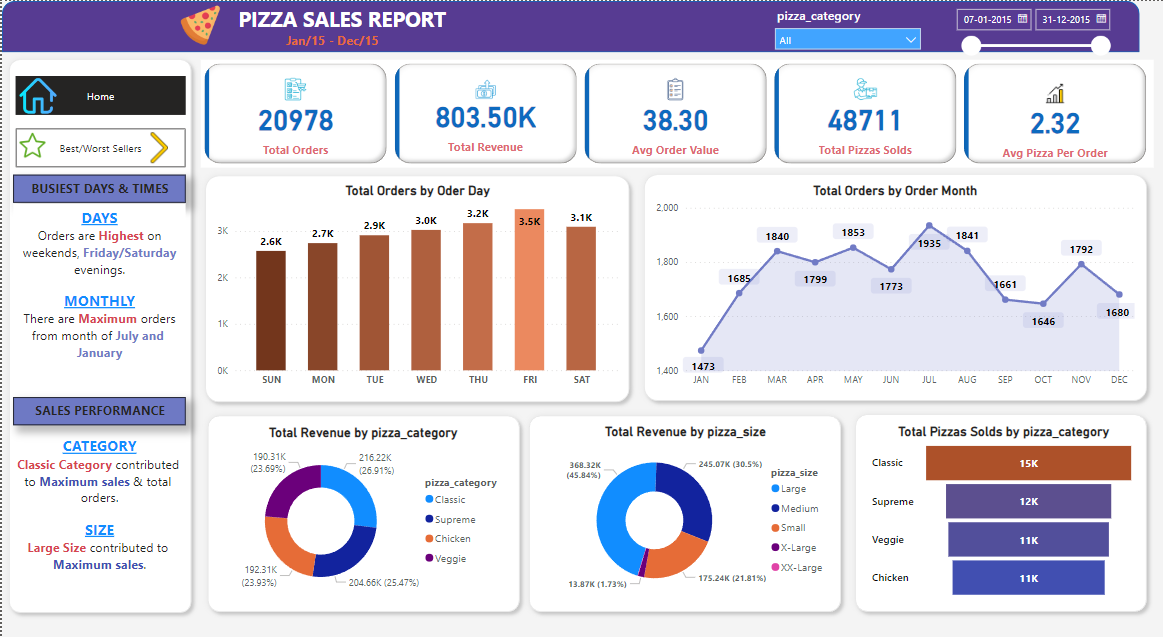

Layout of this report page (visuals, bound fields, positions):
{"tool":"powerbi","page":{"name":"Home","canvas":[1500,820],"ordinal":0},"visuals":[{"type":"cardVisual","fields":{"Data":["pizza_sales.Total Orders","pizza_sales.Total Revenue","pizza_sales.Avg Order Value","pizza_sales.Total Pizzas Solds","pizza_sales.Avg Pizza Per Order"]},"box":[256.2,76.6,1229.3,139.2],"z":0},{"type":"shape","box":[0,0,1467.7,66.1],"z":1000},{"type":"textbox","box":[272.6,0,332.3,58.1],"z":2000},{"type":"textbox","box":[361.3,33.9,156.5,32.3],"z":3000},{"type":"image","box":[203.2,0,104.8,62.9],"z":4000},{"type":"shape","box":[253.4,215.8,565.2,310.5],"z":5000},{"type":"columnChart","fields":{"Category":["pizza_sales.Oder Day"],"Y":["pizza_sales.Total Orders"]},"box":[272.9,233.9,527.6,272.9],"z":6000},{"type":"shape","box":[818.6,214.4,666.9,310.5],"z":7000},{"type":"areaChart","fields":{"Y":["pizza_sales.Total Orders"],"Category":["pizza_sales.Order Month"]},"box":[839.5,233.9,627.9,272.9],"z":8000},{"type":"shape","box":[256.2,526.2,420.4,271.5],"z":9000},{"type":"shape","box":[1091.5,524.9,394,272.9],"z":10000},{"type":"shape","box":[671,526.2,420.4,271.5],"z":11000},{"type":"donutChart","fields":{"Y":["pizza_sales.Total Revenue"],"Category":["pizza_sales.pizza_category"]},"box":[272.9,547.1,387,229.7],"z":12000},{"type":"donutChart","fields":{"Y":["pizza_sales.Total Revenue"],"Category":["pizza_sales.pizza_size"]},"box":[687.7,545.7,389.8,231.1],"z":13000},{"type":"funnel","fields":{"Category":["pizza_sales.pizza_category"],"Y":["pizza_sales.Total Pizzas Solds"]},"box":[1117.9,545.7,349.4,231.1],"z":14000},{"type":"shape","box":[0,65.4,253.4,732.3],"z":15000},{"type":"textbox","box":[15.3,224.1,222.8,36.2],"z":16000},{"type":"textbox","box":[15.3,261.7,222.8,220],"z":17000},{"type":"textbox","box":[15.3,556.9,222.8,220],"z":18000},{"type":"textbox","box":[15.3,510.9,222.8,36.2],"z":19000},{"type":"slicer","fields":{"Values":["pizza_sales.pizza_category"]},"box":[987.1,1.6,208.1,66.1],"z":20000},{"type":"slicer","fields":{"Values":["pizza_sales.order_date"]},"box":[1219.4,0,219.4,75.8],"z":21000},{"type":"pageNavigator","box":[17.7,96.8,219.4,50],"z":22000},{"type":"pageNavigator","box":[17.7,164.5,219.4,50],"z":23000},{"type":"image","box":[169.4,164.5,67.7,50],"z":24000},{"type":"image","box":[17.7,93.5,58.1,58.1],"z":24001},{"type":"image","box":[17.7,158.1,43.5,56.5],"z":24002}]}

Visuals, with their boxes in screenshot pixels (x1, y1, x2, y2), scaled from the page's 1500x820 canvas onto the 1163x637 screenshot:
cardVisual - pizza_sales.Total Orders x pizza_sales.Total Revenue: <region>199, 60, 1152, 168</region>
shape: <region>0, 0, 1138, 51</region>
textbox: <region>211, 0, 469, 45</region>
textbox: <region>280, 26, 401, 51</region>
image: <region>158, 0, 239, 49</region>
shape: <region>196, 168, 635, 409</region>
columnChart - pizza_sales.Oder Day x pizza_sales.Total Orders: <region>212, 182, 621, 394</region>
shape: <region>635, 167, 1152, 408</region>
areaChart - pizza_sales.Total Orders x pizza_sales.Order Month: <region>651, 182, 1138, 394</region>
shape: <region>199, 409, 525, 620</region>
shape: <region>846, 408, 1152, 620</region>
shape: <region>520, 409, 846, 620</region>
donutChart - pizza_sales.Total Revenue x pizza_sales.pizza_category: <region>212, 425, 512, 603</region>
donutChart - pizza_sales.Total Revenue x pizza_sales.pizza_size: <region>533, 424, 835, 603</region>
funnel - pizza_sales.pizza_category x pizza_sales.Total Pizzas Solds: <region>867, 424, 1138, 603</region>
shape: <region>0, 51, 196, 620</region>
textbox: <region>12, 174, 185, 202</region>
textbox: <region>12, 203, 185, 374</region>
textbox: <region>12, 433, 185, 604</region>
textbox: <region>12, 397, 185, 425</region>
slicer - pizza_sales.pizza_category: <region>765, 1, 927, 53</region>
slicer - pizza_sales.order_date: <region>945, 0, 1116, 59</region>
pageNavigator: <region>14, 75, 184, 114</region>
pageNavigator: <region>14, 128, 184, 167</region>
image: <region>131, 128, 184, 167</region>
image: <region>14, 73, 59, 118</region>
image: <region>14, 123, 47, 167</region>
